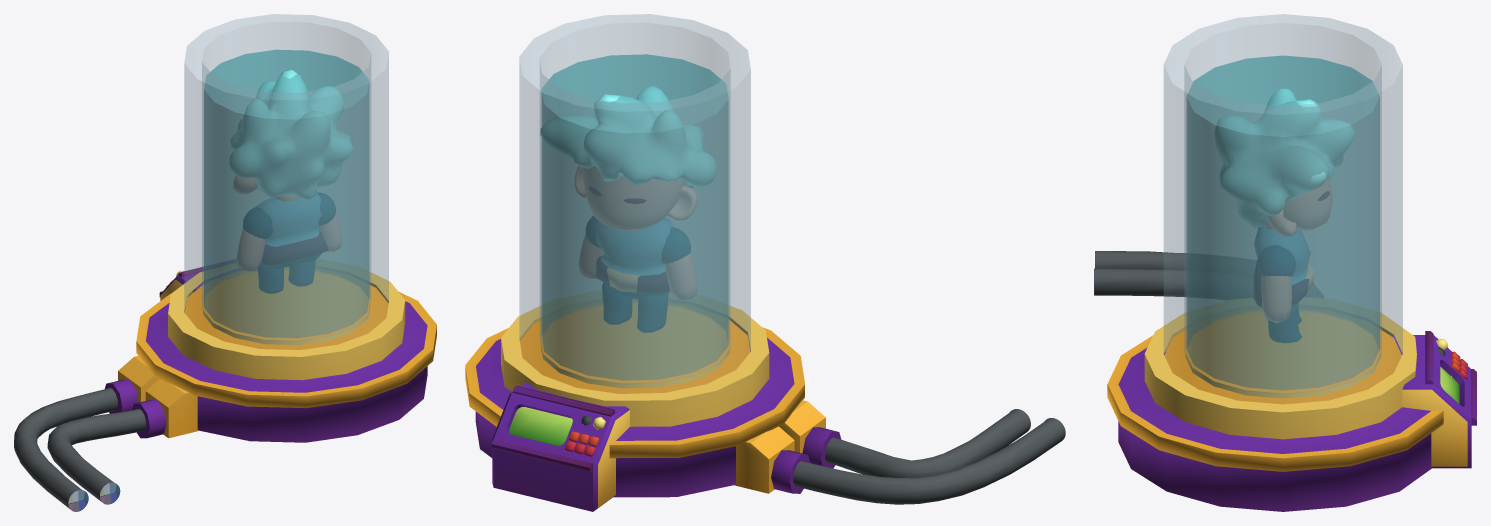
File: cloning_tank.glb
3 views of the same model, side by side, from view 1: azimuth 30°, elevation 25°; view 2: azimuth 150°, elevation 25°; view 3: azimuth 270°, elevation 25° (orthographic). The views are drawn at different scales.
Visible parts, largest first — view 1: cloning_tank, water, character_reference; view 2: cloning_tank, water, character_reference; view 3: cloning_tank, water, character_reference.
Boxes of the visible parts, left/top/right/bottom form: cloning_tank: left=14, top=14, right=436, bottom=511; water: left=204, top=49, right=369, bottom=337; character_reference: left=229, top=69, right=353, bottom=293; cloning_tank: left=465, top=14, right=1065, bottom=511; water: left=541, top=54, right=728, bottom=380; character_reference: left=540, top=86, right=716, bottom=332; cloning_tank: left=1094, top=14, right=1476, bottom=511; water: left=1186, top=55, right=1379, bottom=390; character_reference: left=1214, top=88, right=1354, bottom=342.
Bounding box in the file's own units: 5.4 × 3.98 × 3.59.
Materials: 4 (2 with a texture image).
